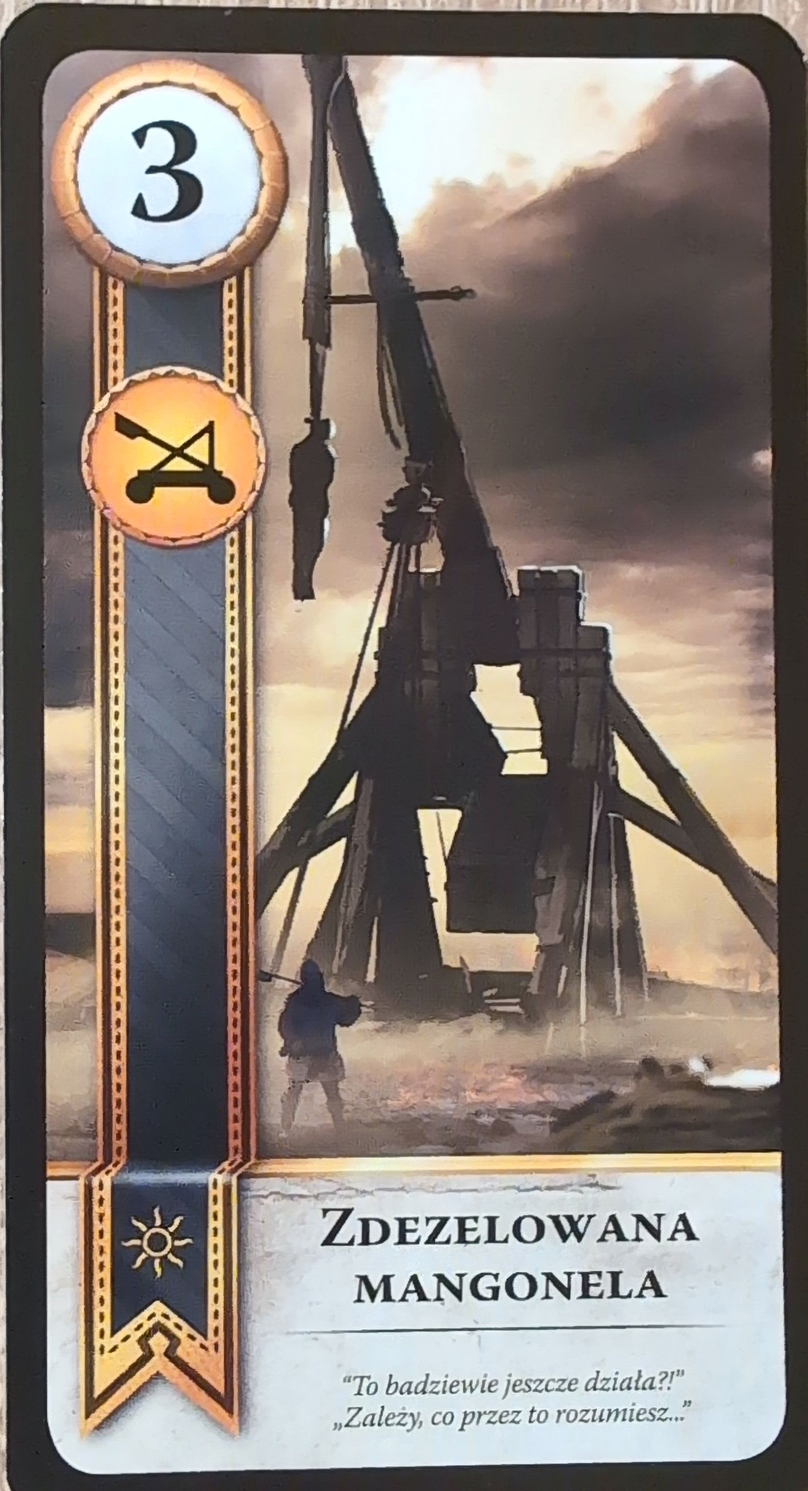3: (51, 57, 292, 289)
katapulta: (79, 364, 266, 547)
